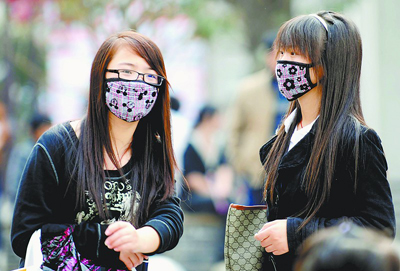face_mask: (107, 50, 161, 123), (276, 36, 318, 99)
